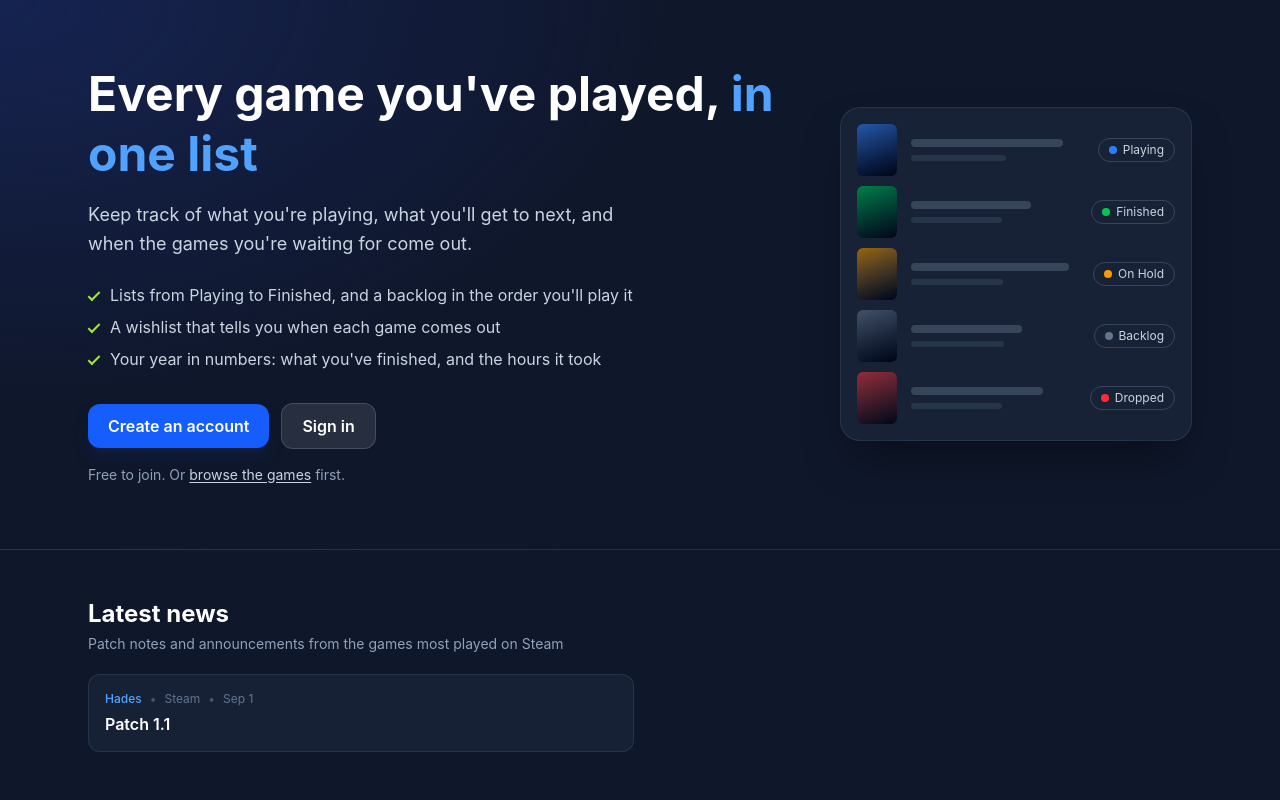
Test case: HomePage for a signed-out visitor › opens the sign-in dialog the navbar opens, from the panel
The width and height of the screenshot is (1280, 800).
Click the button "Sign in". click: {"x": 329, "y": 426}
box: top-left (281, 402), bottom-right (376, 448)
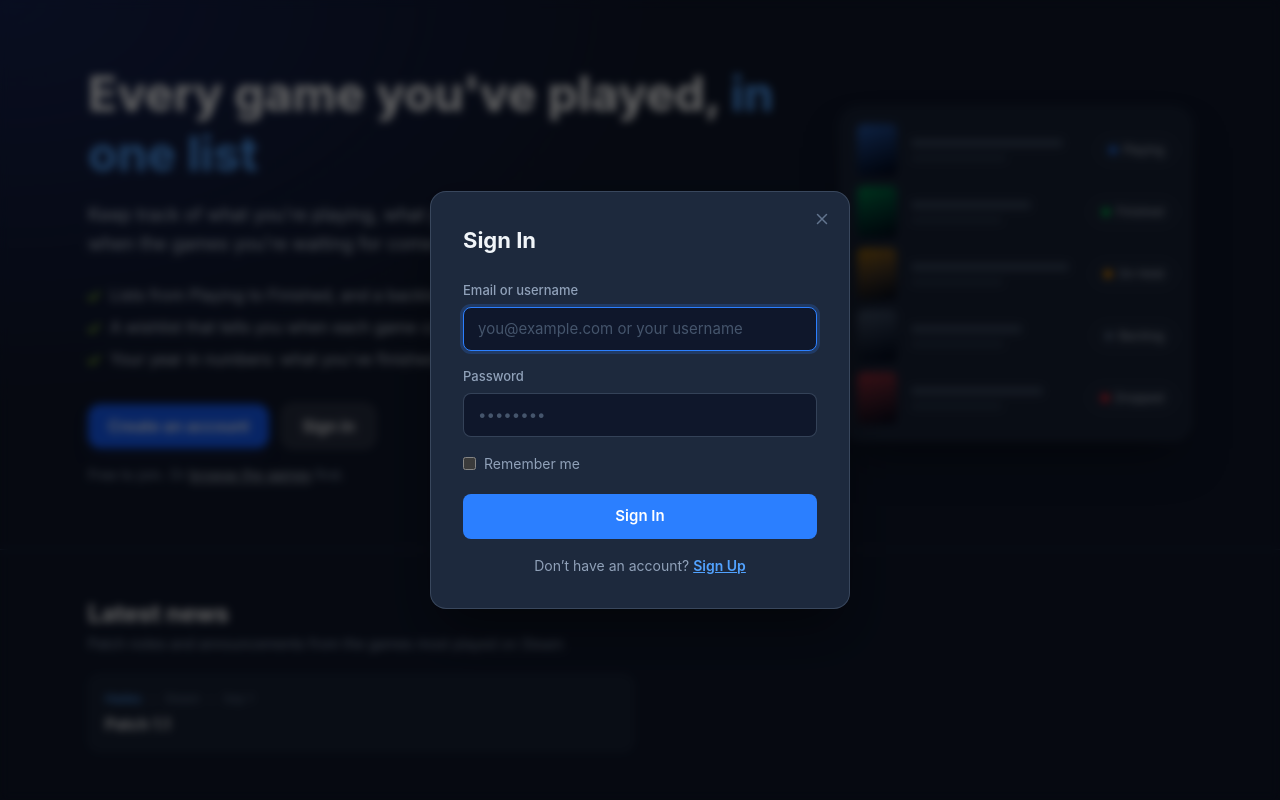
Now the dialog "Sign In" is shown
